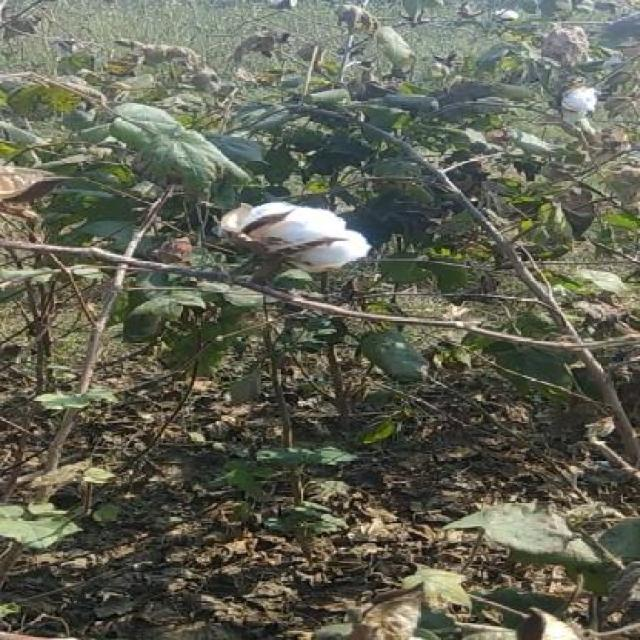cotton_ready: (208, 189, 392, 323)
